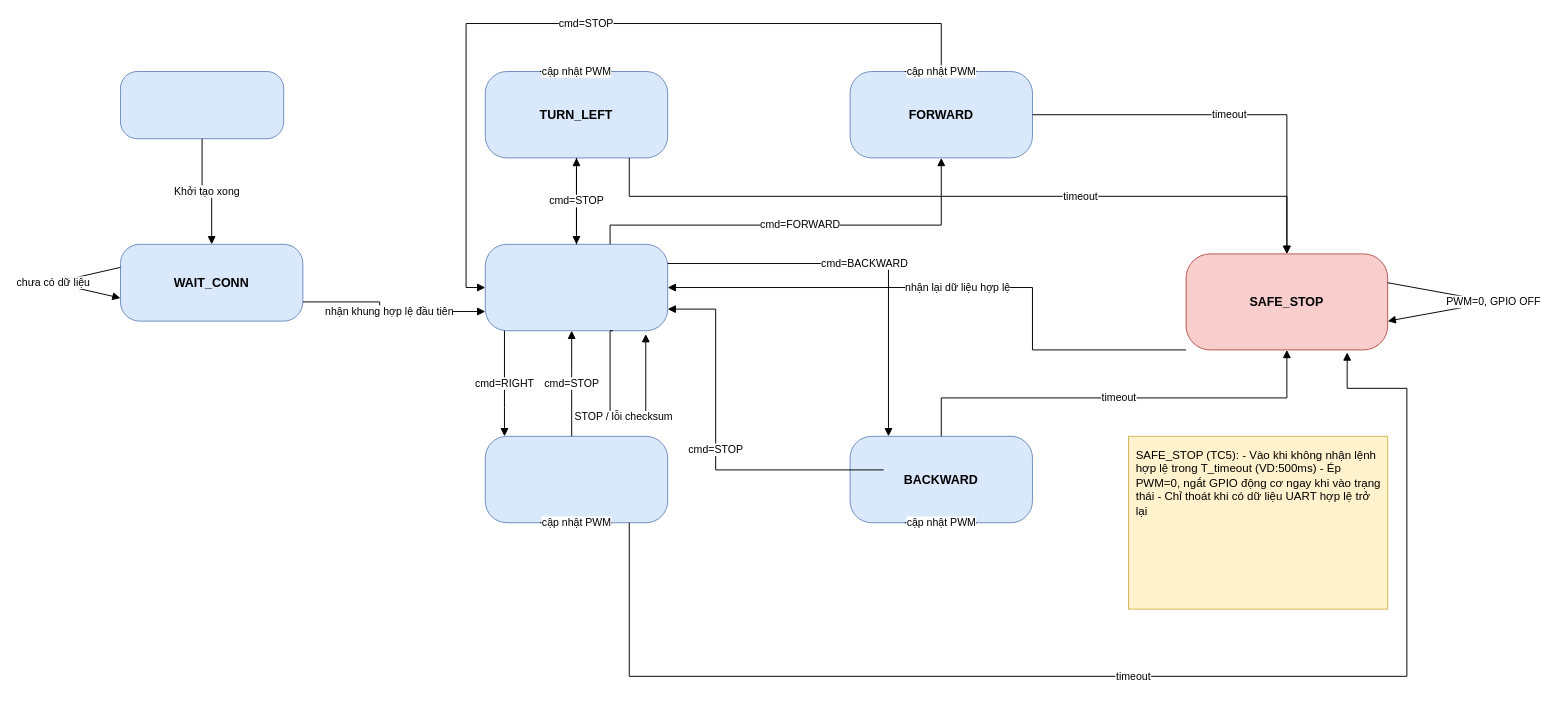
Some shapes in this 1557 by 701 pixel diagram are drawn without their labels. The centre of each missing label's shape, as x and y in pixels:
"IDLE" belongs at [576,287].
"INIT" belongs at [202,105].
"TURN_RIGHT" belongs at [576,479].
